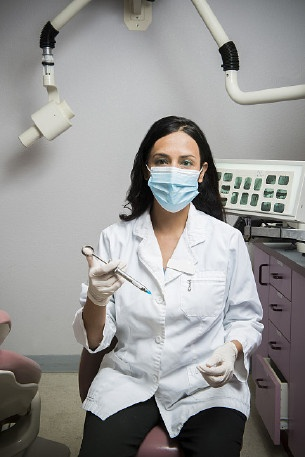Mask: (150, 148, 203, 201)
